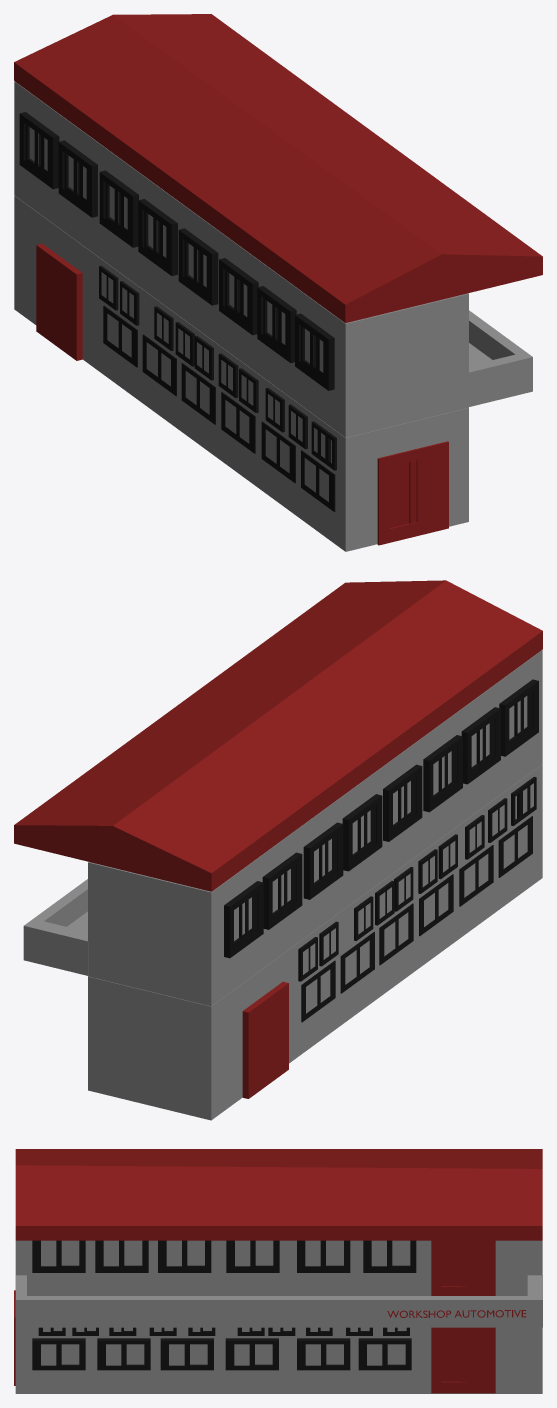
File: Gedung Otomotif4.fbx
3 views of the same model, one above another, from view 1: azimuth 30°, elevation 25°; view 2: azimuth 150°, elevation 25°; view 3: azimuth 270°, elevation 25° (orthographic). The views are drawn at different scales.
Parts seen in each view (by area): view 1: Cube.053; view 2: Cube.053; view 3: Cube.053, Text.
Boxes of the visible parts, bbox=[...] form: Cube.053: bbox=[14, 14, 542, 551]; Cube.053: bbox=[14, 580, 542, 1120]; Cube.053: bbox=[14, 1149, 542, 1393]; Text: bbox=[387, 1310, 526, 1317].
Bounding box in the file's own units: 332 × 425 × 934.
